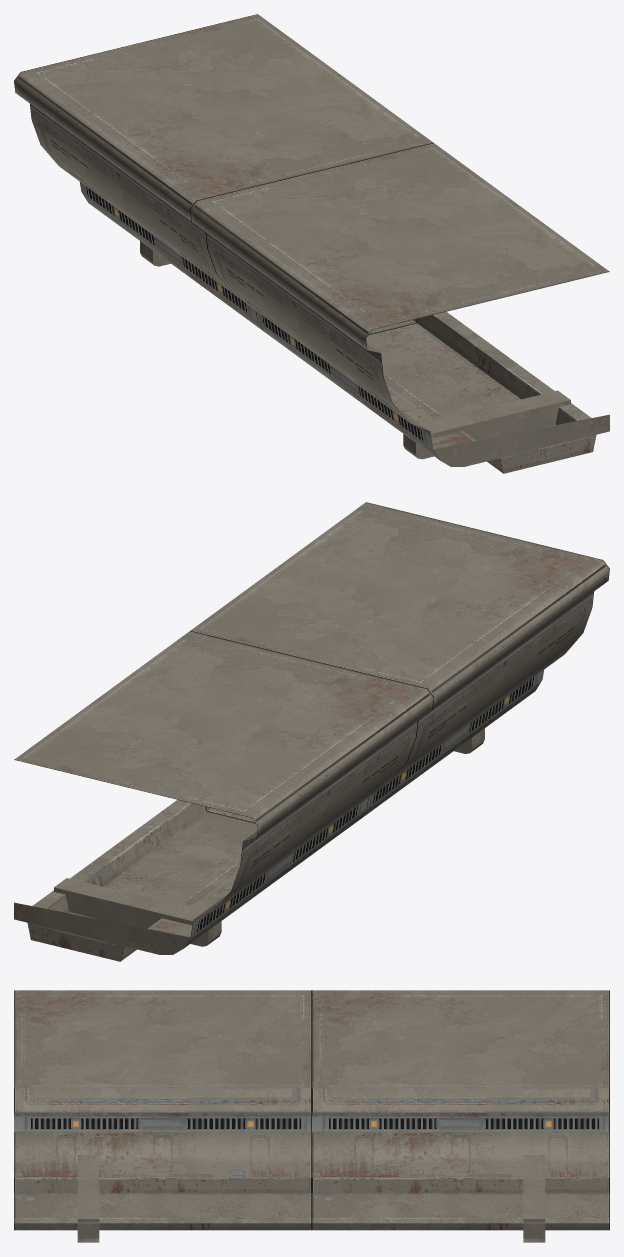
File: CP_Canopy_Industrial_8m_02.fbx
3 renders of one model, top to bottom at view 1: azimuth 30°, elevation 25°; view 2: azimuth 150°, elevation 25°; view 3: azimuth 270°, elevation 25°, orthographic. The views are drawn at different scales.
Parts seen in each view (by area): view 1: CP_Canopy_Industrial_8m_02; view 2: CP_Canopy_Industrial_8m_02; view 3: CP_Canopy_Industrial_8m_02.
Boxes of the visible parts, x1=… form: CP_Canopy_Industrial_8m_02: x1=14, y1=14, x2=609, y2=473; CP_Canopy_Industrial_8m_02: x1=14, y1=502, x2=609, y2=961; CP_Canopy_Industrial_8m_02: x1=14, y1=990, x2=609, y2=1242.
Bounding box in the file's own units: 160 × 120 × 400.
